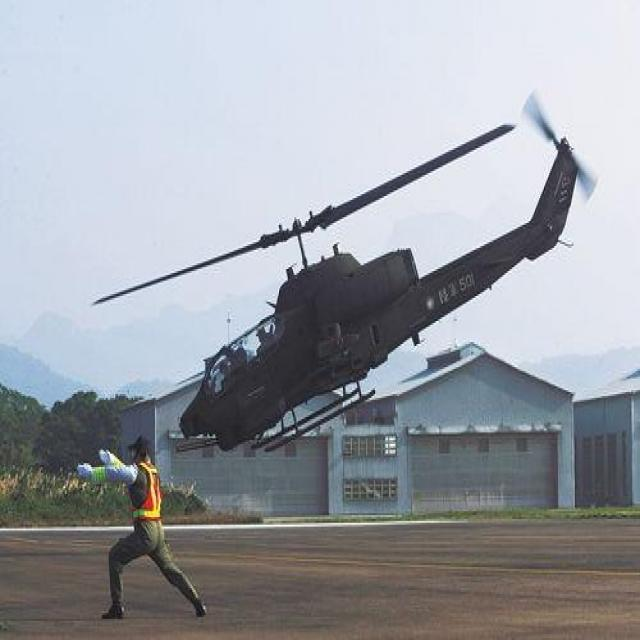MIL_HELO: (89, 87, 601, 464)
